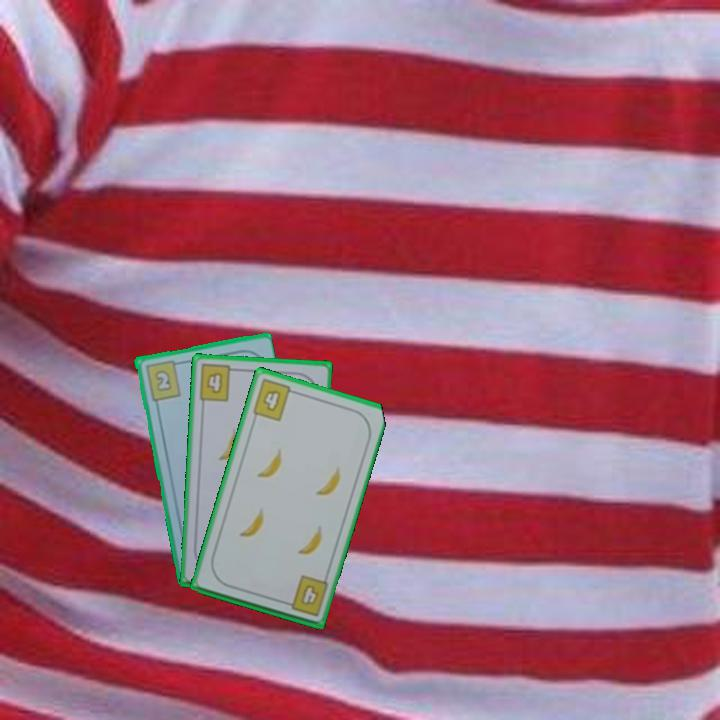2b: (142, 356, 184, 403)
4b: (249, 375, 300, 424), (279, 572, 331, 619), (195, 361, 240, 404)
